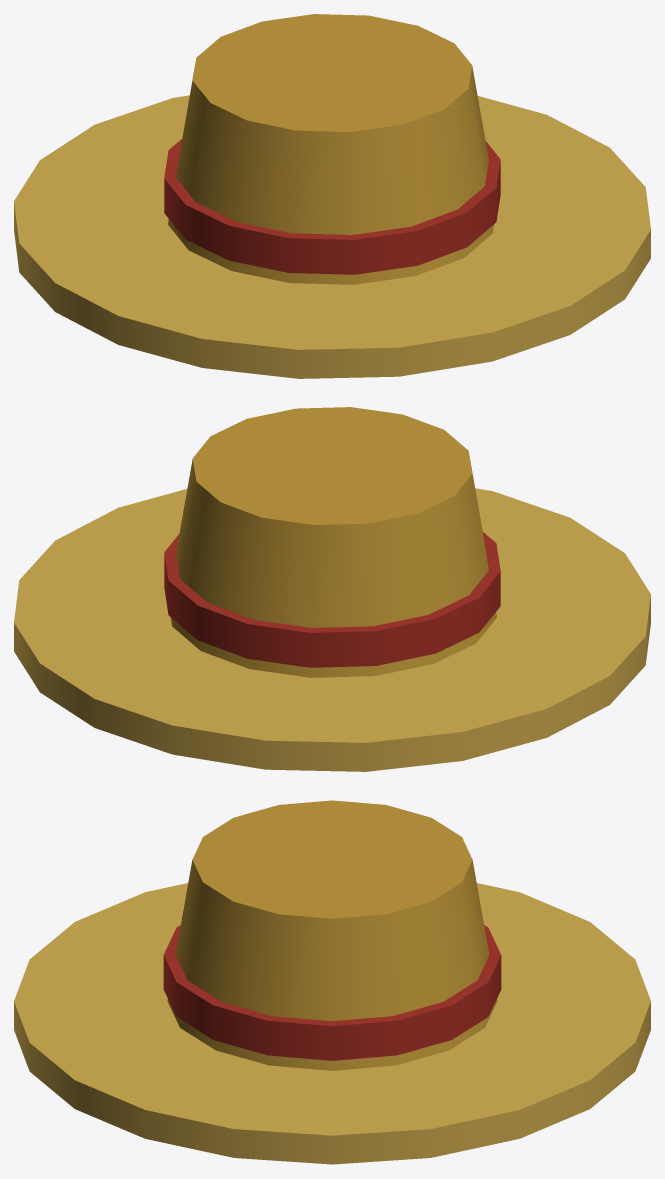
File: hat-straw.glb
3 views of the same model, one above another, from view 1: azimuth 30°, elevation 25°; view 2: azimuth 150°, elevation 25°; view 3: azimuth 270°, elevation 25° (orthographic).
Visible parts, largest first — view 1: hat; view 2: hat; view 3: hat.
Boxes of the visible parts, box(x1,y1,x2,y2) form: hat: box(14, 14, 650, 378); hat: box(14, 407, 650, 771); hat: box(14, 800, 650, 1164).
Bounding box in the file's own units: 1 × 0.295 × 1.
